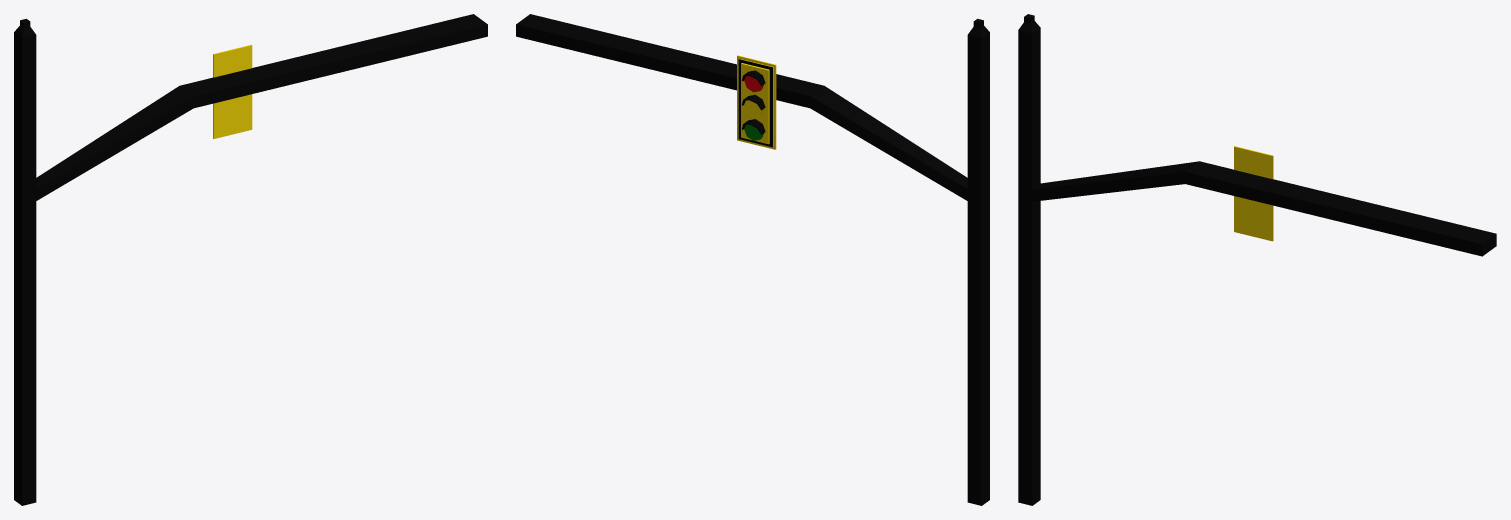
The model's file is stoplight.glb.
3 renders of one model, left to right at view 1: azimuth 30°, elevation 25°; view 2: azimuth 150°, elevation 25°; view 3: azimuth 330°, elevation 25°, orthographic.
Visible parts, largest first — view 1: Cube.004, backplate; view 2: Cube.004, backplate, lights; view 3: Cube.004, backplate.
Part boxes in pixels (x1,y1,x2,y2): Cube.004: [14, 14, 487, 505]; backplate: [213, 44, 252, 138]; Cube.004: [516, 14, 989, 505]; backplate: [737, 55, 776, 149]; lights: [742, 70, 765, 140]; Cube.004: [1018, 14, 1496, 505]; backplate: [1234, 146, 1273, 241].
Bounding box in the file's own units: 10.91 × 10.82 × 0.9245.
